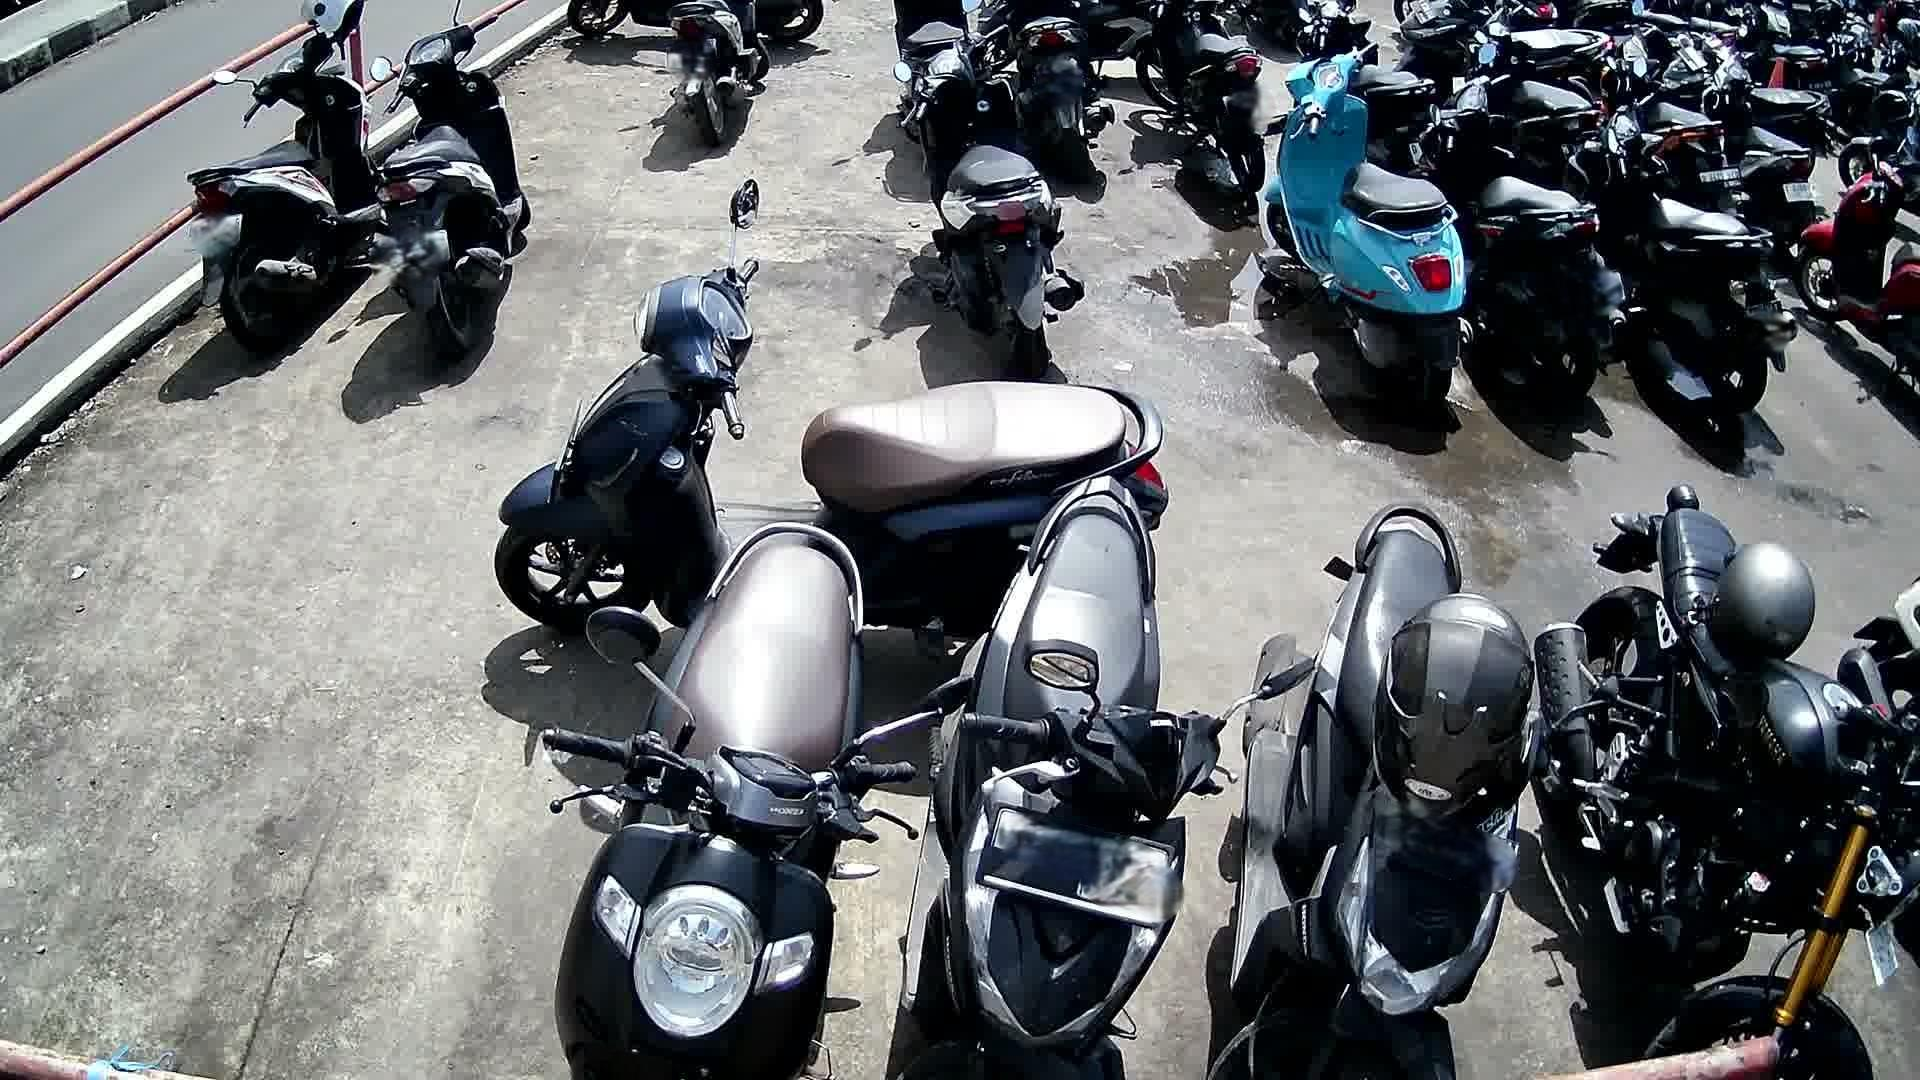motorcycle: (496, 180, 1170, 635), (890, 477, 1317, 1080), (541, 522, 975, 1080), (1215, 500, 1615, 1080), (1532, 483, 1920, 1080), (1403, 44, 1631, 420), (1260, 40, 1480, 428), (1563, 54, 1788, 418), (890, 0, 1084, 375), (188, 13, 389, 356), (369, 4, 534, 367), (1796, 127, 1920, 396)
